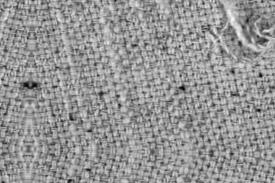snag: (206, 1, 274, 75)
